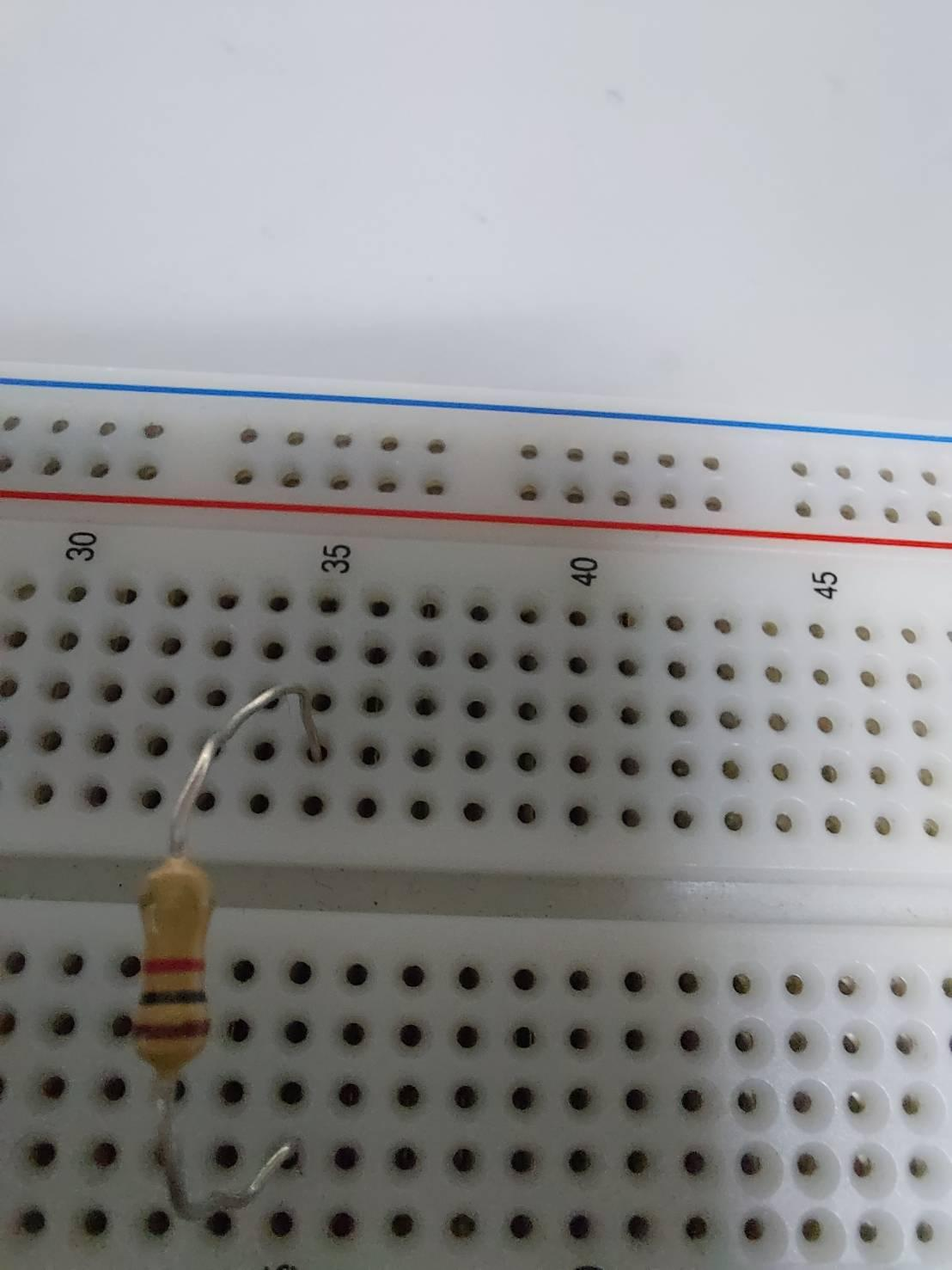resistor: (122, 854, 223, 1080)
